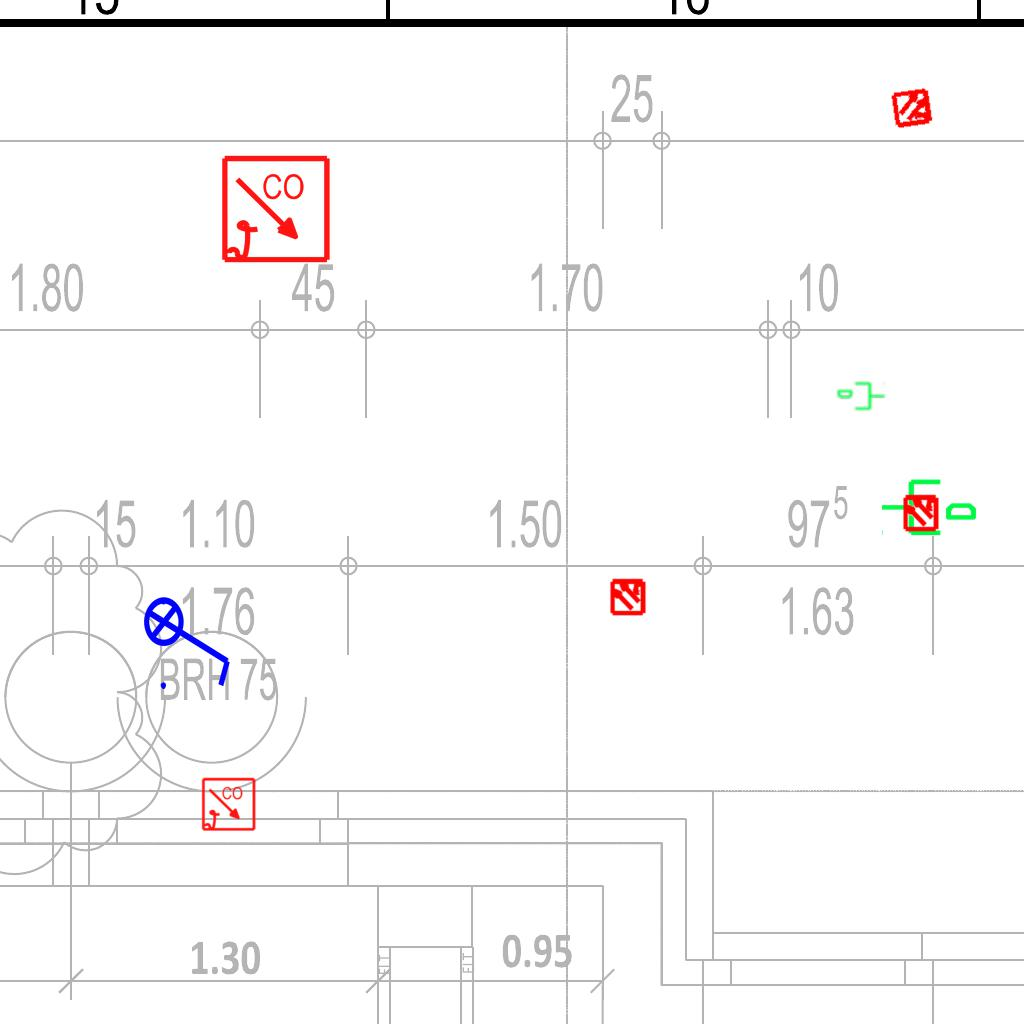Ausschalter_beleuchtet: (142, 583, 238, 695)
Datenanschluss_einfach: (879, 471, 979, 540), (836, 380, 886, 414)
OT_Multisensormelder_(Kombination_RMO_WMD): (881, 76, 945, 140), (600, 568, 656, 624), (893, 484, 949, 540)
ROA_Rauchmelder_optisch_mit_Signalgeber_(Sockelsirene): (220, 154, 333, 267), (201, 777, 257, 833)
